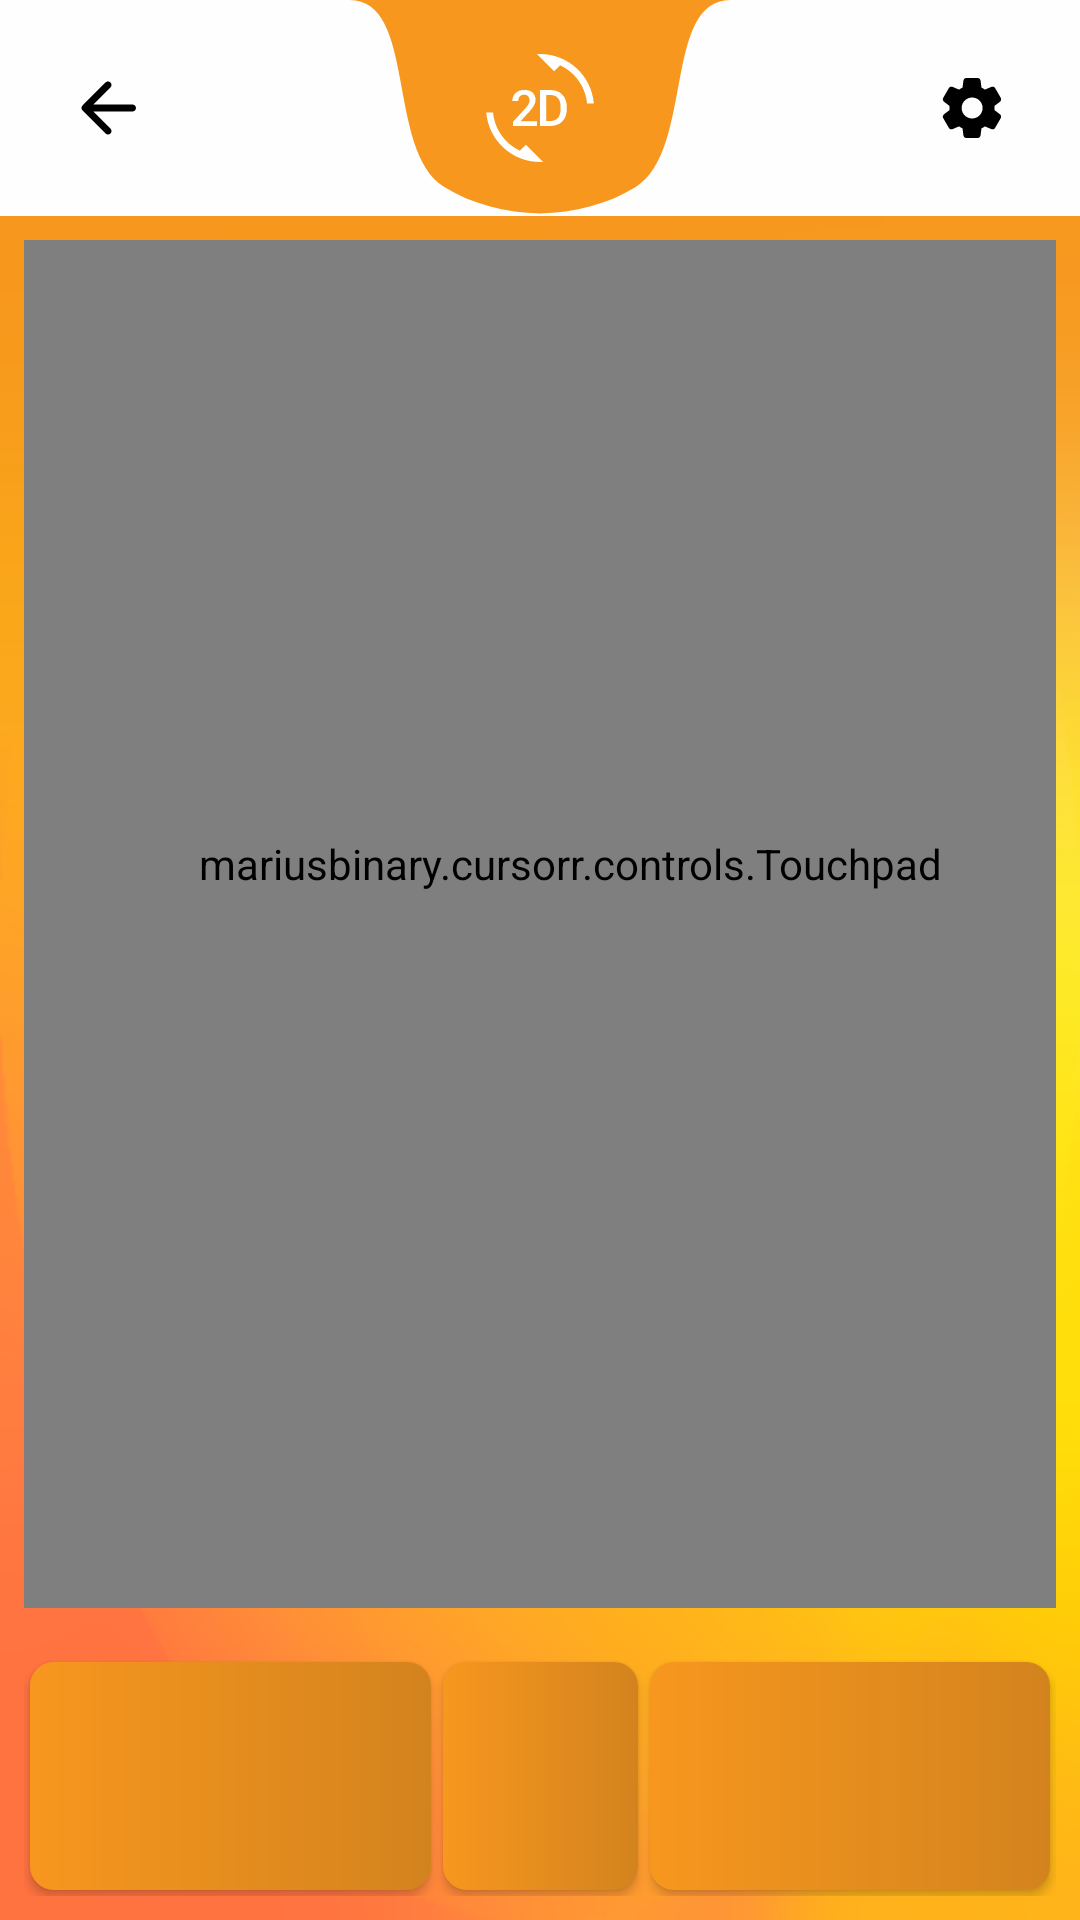

Icon bounding boxes for this 1080 x 1920 phone screenshot, format Rect(x1, y1, x2, y2):
arrow back: Rect(81, 81, 136, 135)
mouse 2d: Rect(432, 54, 648, 216)
settings: Rect(942, 78, 1001, 138)
